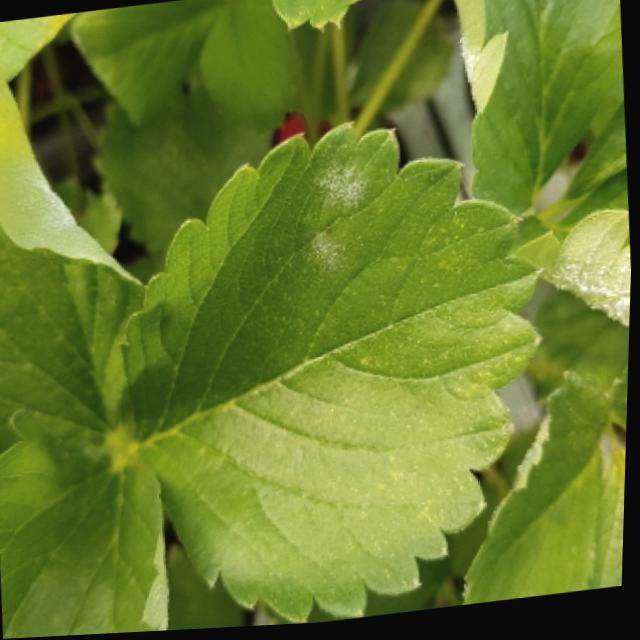Powdery Mildew Leaf: (117, 121, 550, 627), (0, 63, 141, 456), (0, 407, 174, 639), (446, 0, 624, 218), (467, 377, 615, 610), (514, 170, 633, 332)
